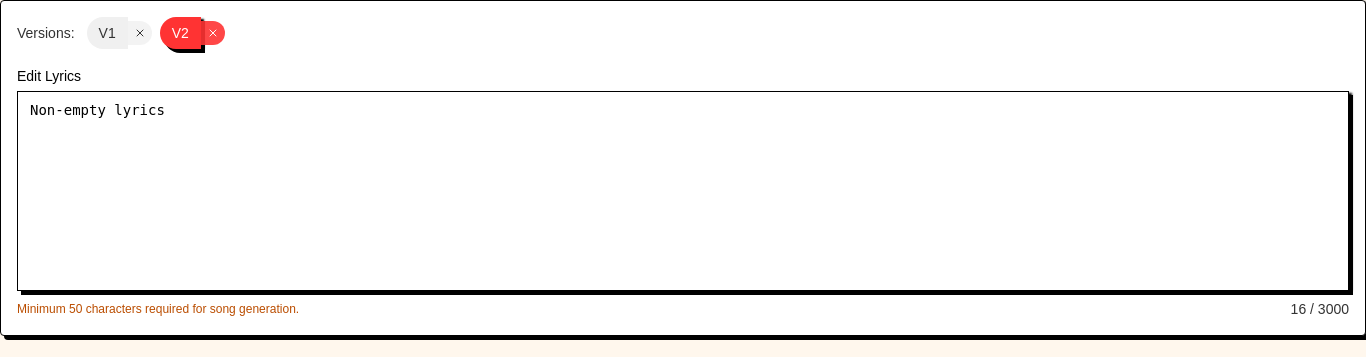
Scenario: Version Switching Unit Tests › Edge cases › should handle switching with empty lyrics
// Switch to version 1 (with whitespace only)
Step 1. Click the tab "V1" → click(107, 33), box [87, 17, 128, 49]
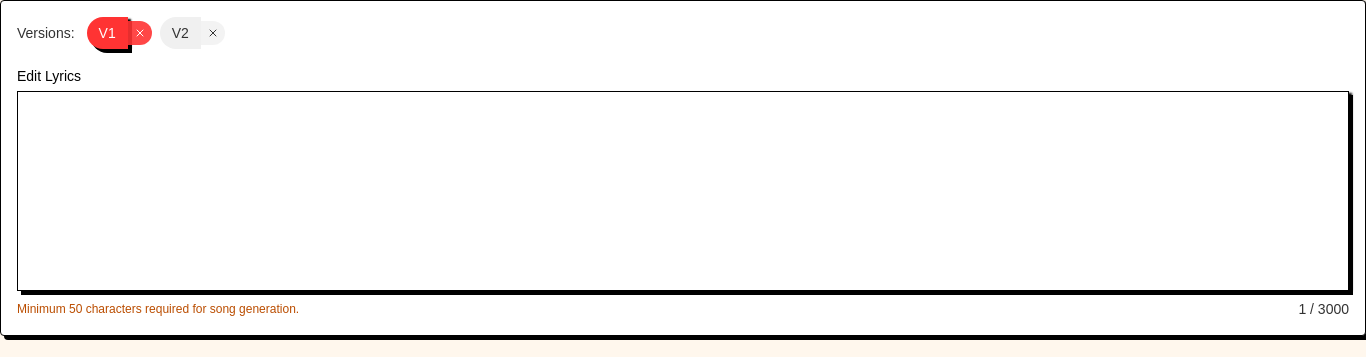
Now the text box holds " ", box [17, 91, 1349, 291]
// Switch back to version 2
Step 2. Click the tab "V2" → click(180, 33), box [160, 17, 201, 49]
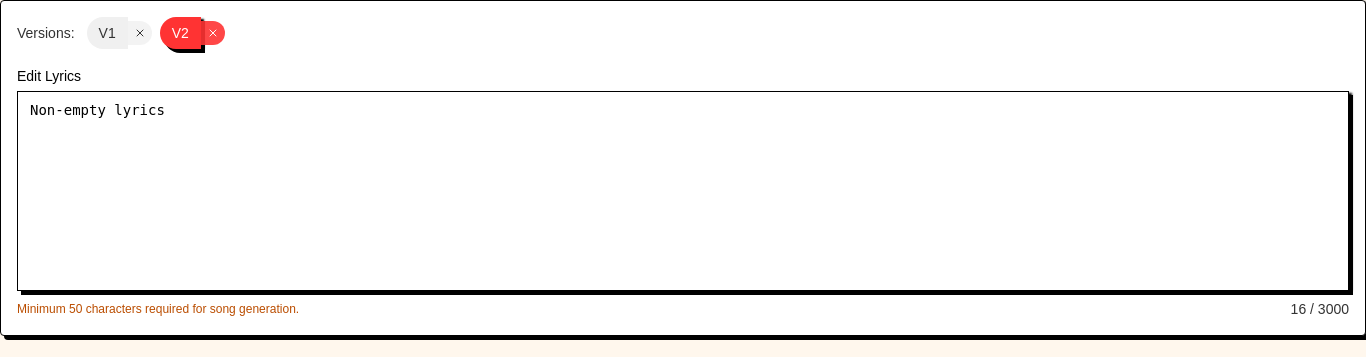
Now the text box holds "Non-empty lyrics", box [17, 91, 1349, 291]
